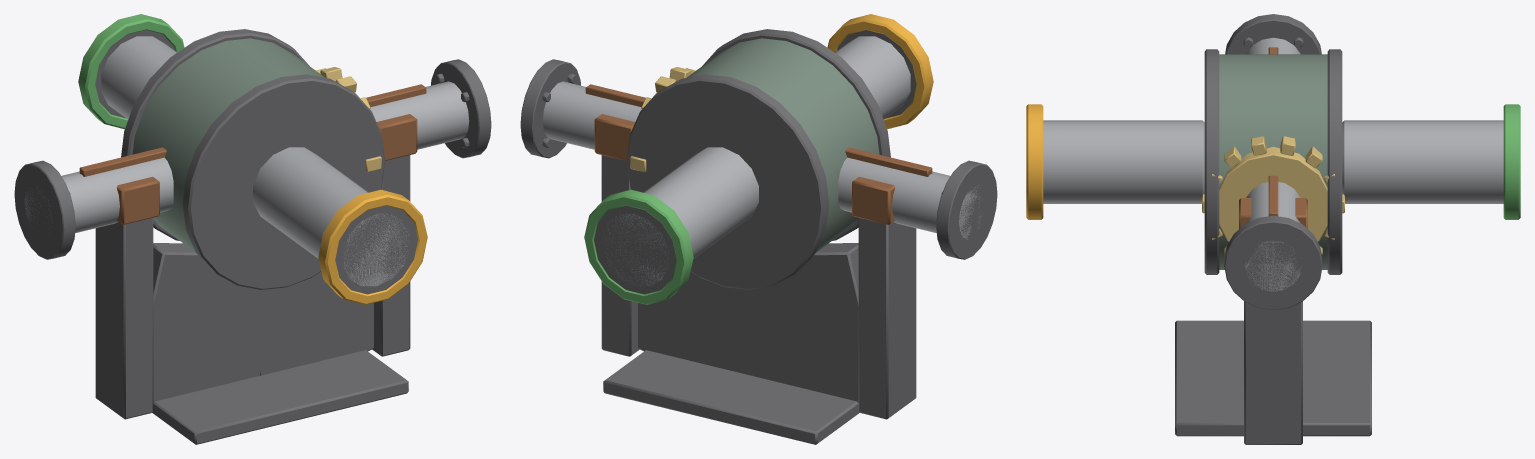
File: feMechPump.fbx
3 views of the same model, side by side, from view 1: azimuth 30°, elevation 25°; view 2: azimuth 150°, elevation 25°; view 3: azimuth 270°, elevation 25° (orthographic).
Visible parts, largest first — view 1: feMechPump_Base, FeSpin_PumpShaft; view 2: feMechPump_Base, FeSpin_PumpShaft; view 3: feMechPump_Base, FeSpin_PumpShaft.
Boxes of the visible parts, x1,y1,x2,y2 form: feMechPump_Base: [78, 14, 427, 444]; FeSpin_PumpShaft: [14, 59, 491, 259]; feMechPump_Base: [584, 14, 933, 444]; FeSpin_PumpShaft: [520, 59, 997, 259]; feMechPump_Base: [1026, 49, 1520, 444]; FeSpin_PumpShaft: [1202, 14, 1344, 310].
Bounding box in the file's own units: 1 × 0.7654 × 1.
